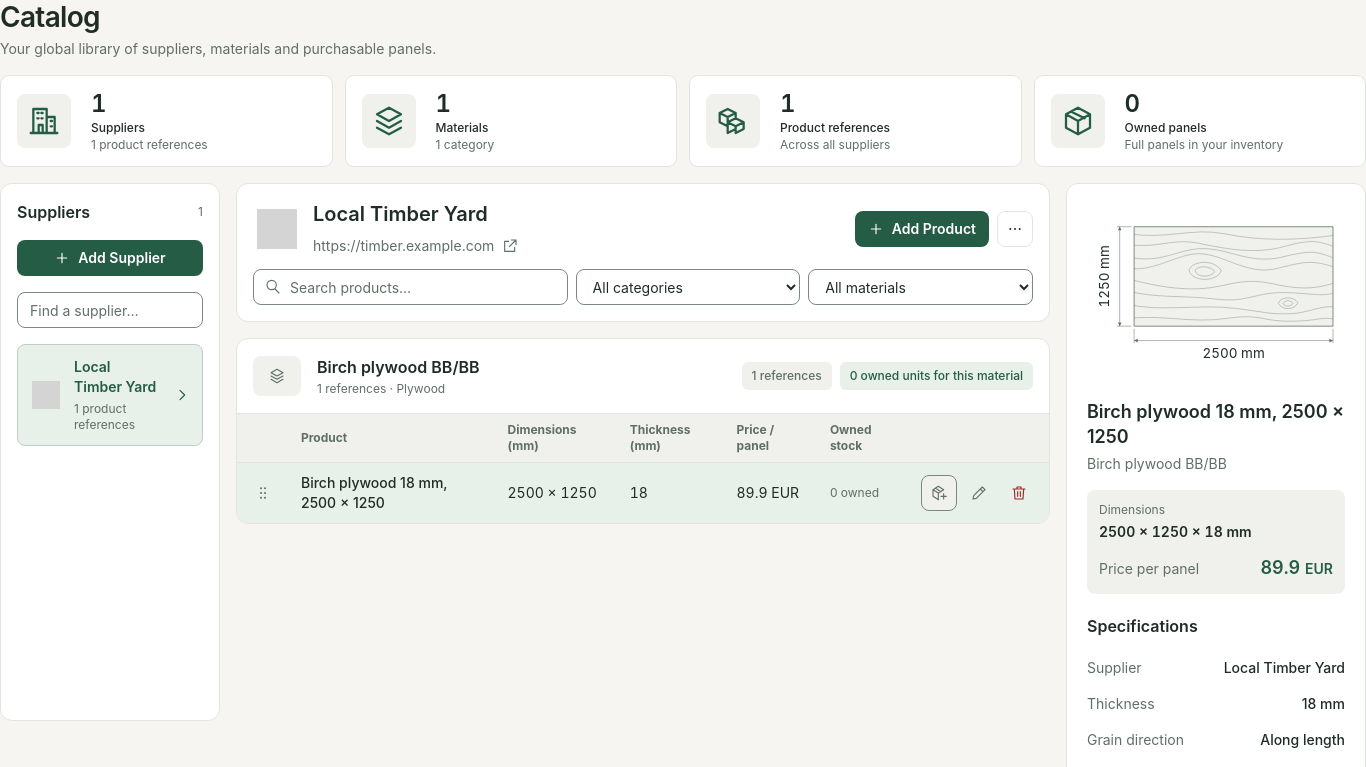
Test: SuppliersView › presents substantial icon summary cards and structured text-based product details without invented imagery
Check: the number of elements with class "catalog-summary-card" is 4, box [0,75,332,167]; [344,75,677,167]; [689,75,1022,167]; [1034,75,1365,167]
Click the button named "Edit product" at coordinates (979, 493), box [961,475,997,511]
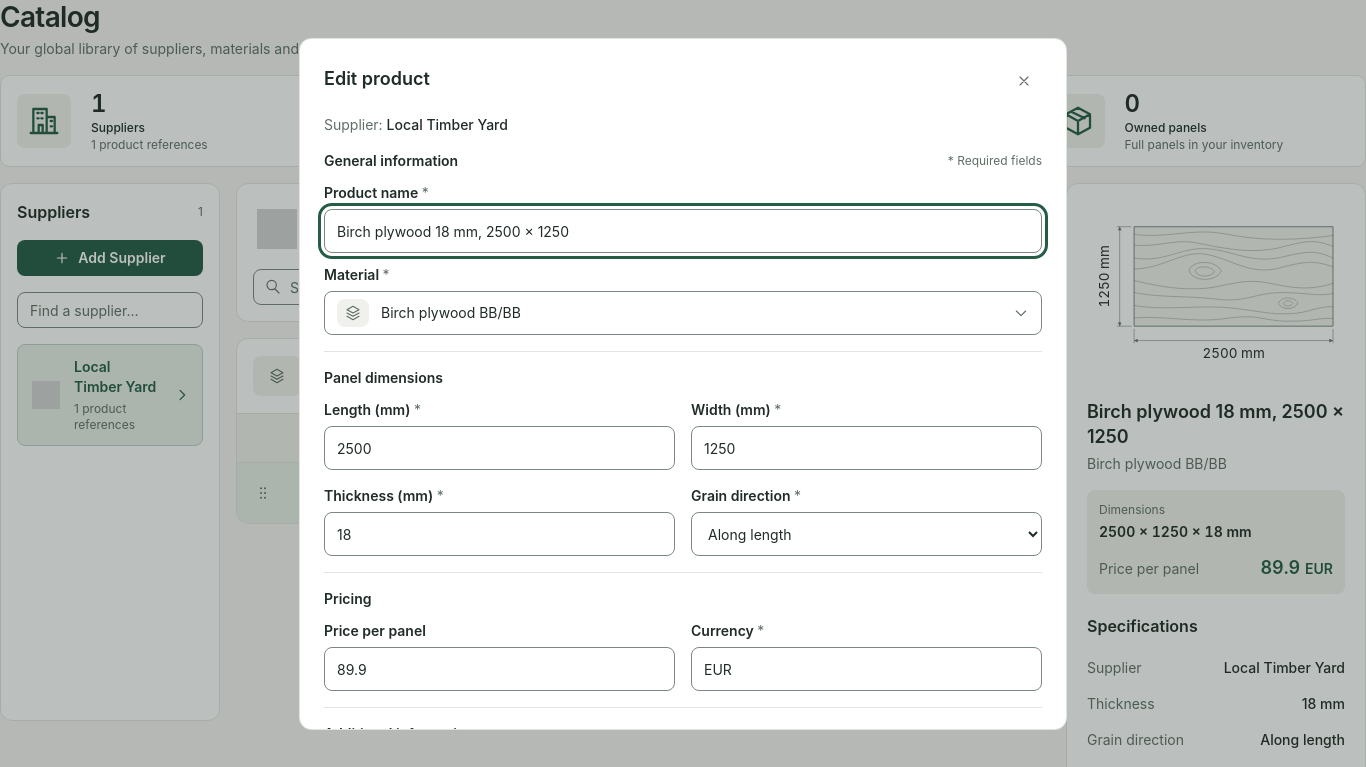
Check: the field labelled "Product name *" is shown, box [324,209,1042,253]
